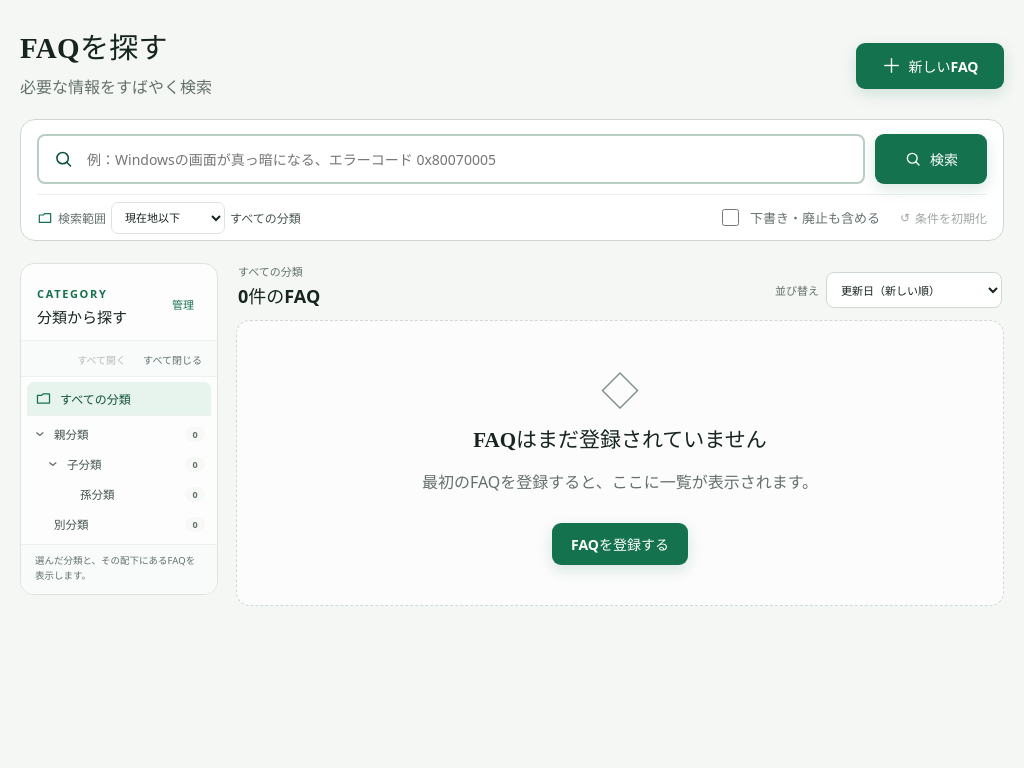
Test: SearchPage › collapses category branches individually and all at once
The image size is (1024, 768).
(page scrolled)
Expected: the button "孫分類 0" is shown, [78,479,211,509]
Click the button named "親分類の下位分類を閉じる".
click(42, 434)  # box [32,421,52,447]
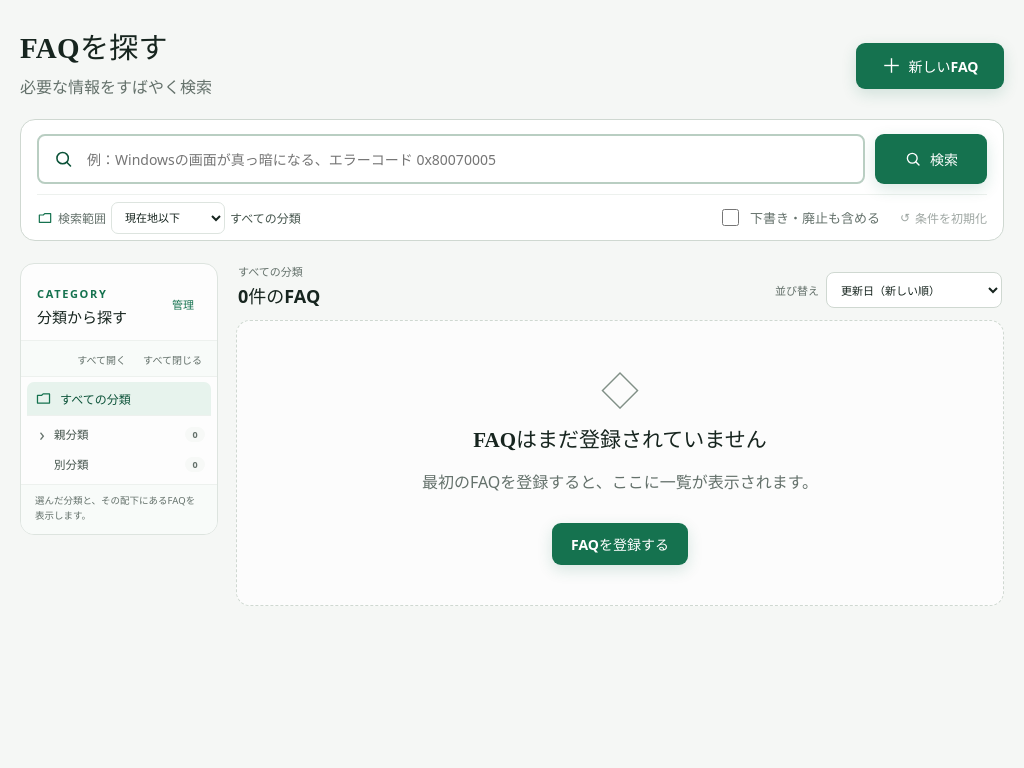
Expected: the button "別分類 0" is shown, [52,449,211,479]
Expected: the button "子分類" is gone
Click the button named "親分類の下位分類を開く".
click(42, 434)  # box [32,421,52,447]
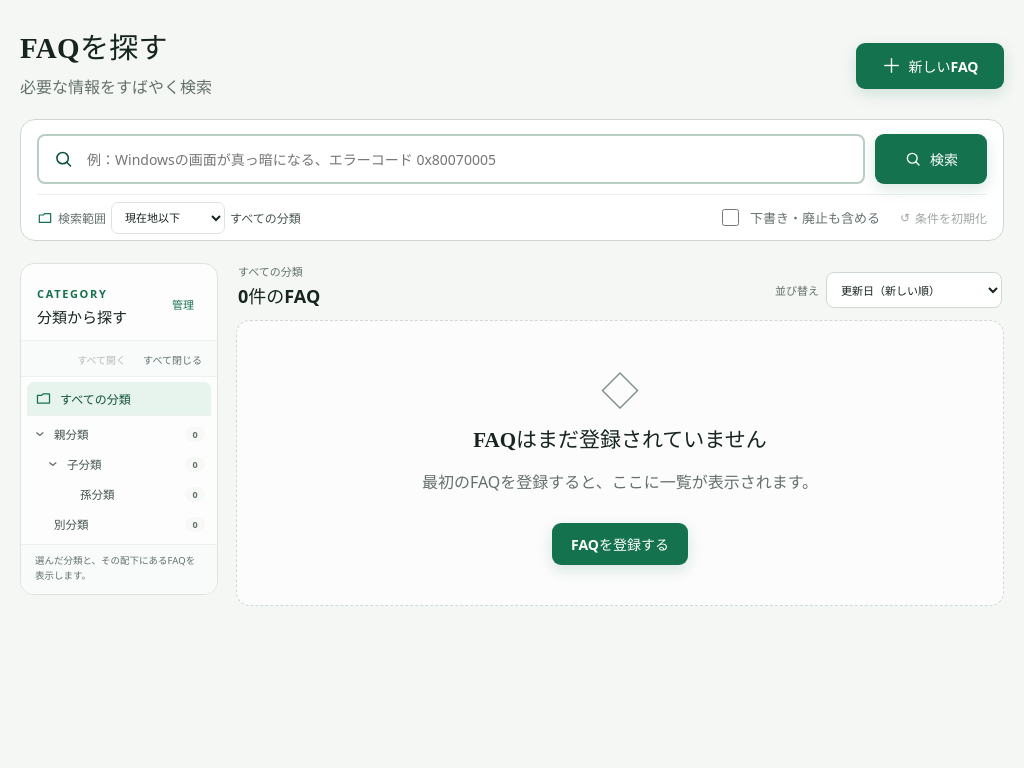
Expected: the button "子分類 0" is shown, [65,449,211,479]
Click the button "すべて閉じる".
click(173, 360)  # box [136,346,209,373]
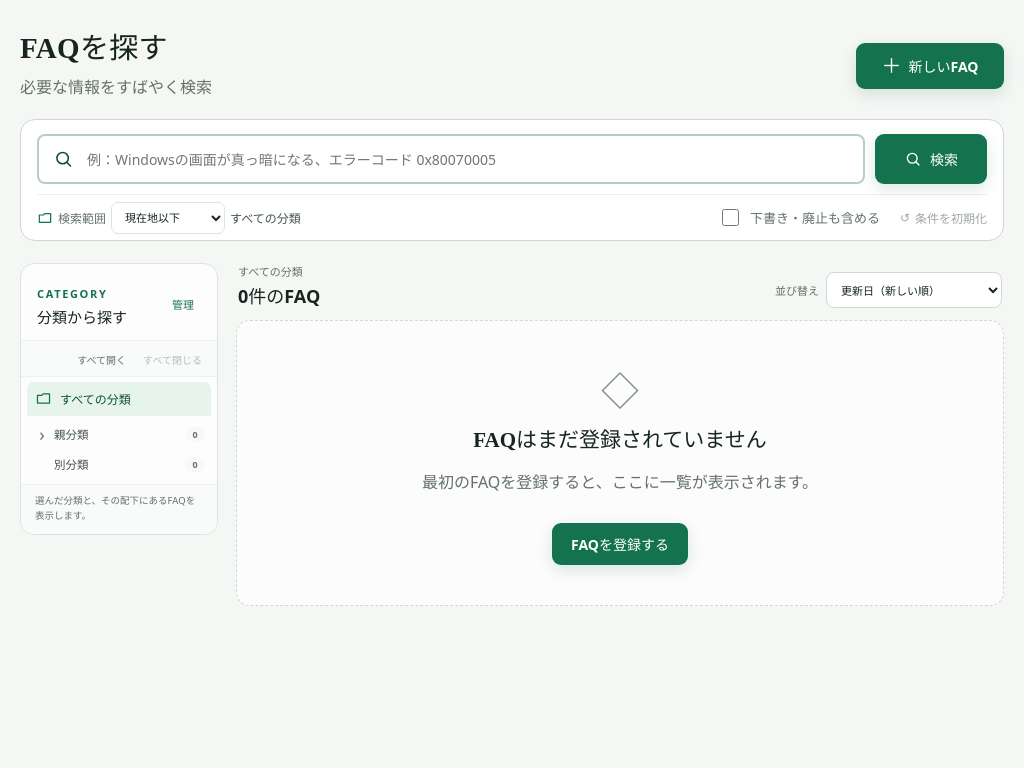
Expected: the button "子分類" is gone
Expected: the button "すべて開く" is enabled, [70,346,133,373]
